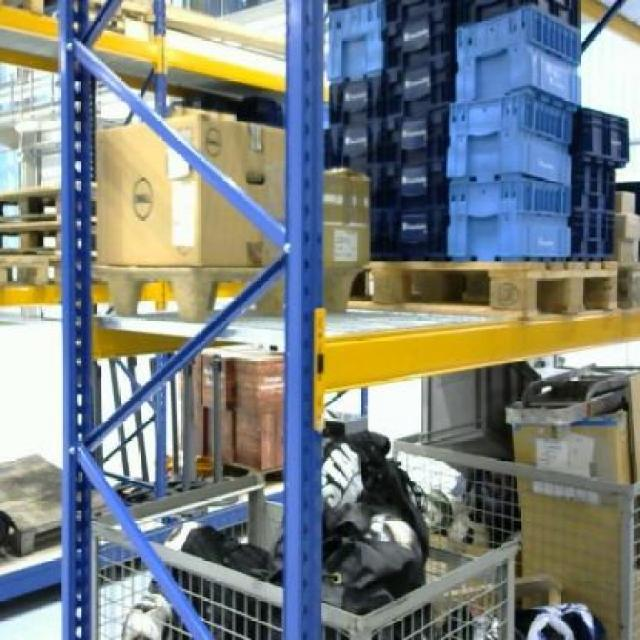box: (98, 111, 284, 264), (512, 428, 630, 589), (322, 171, 369, 267)
